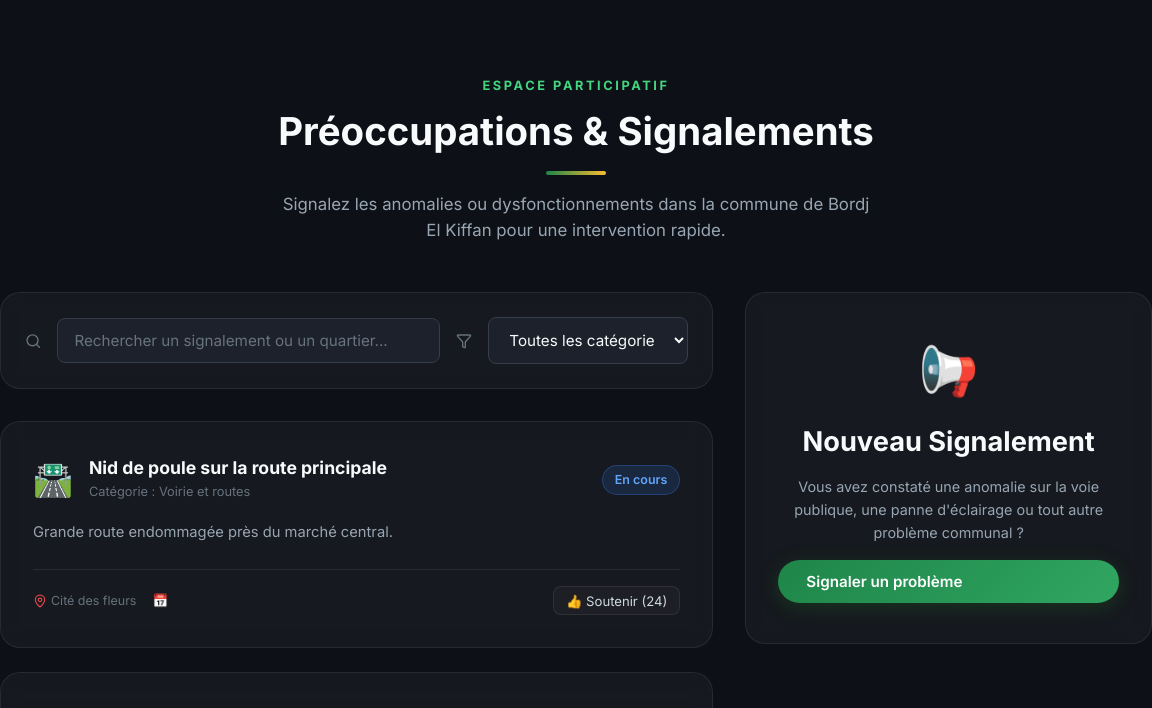
Test: Signalements › filters signalements by category
This screenshot has width=1152, height=708.
Select "Transport" in the dropdown showing "Toutes les catégories": [588, 341] box [488,317,688,364]
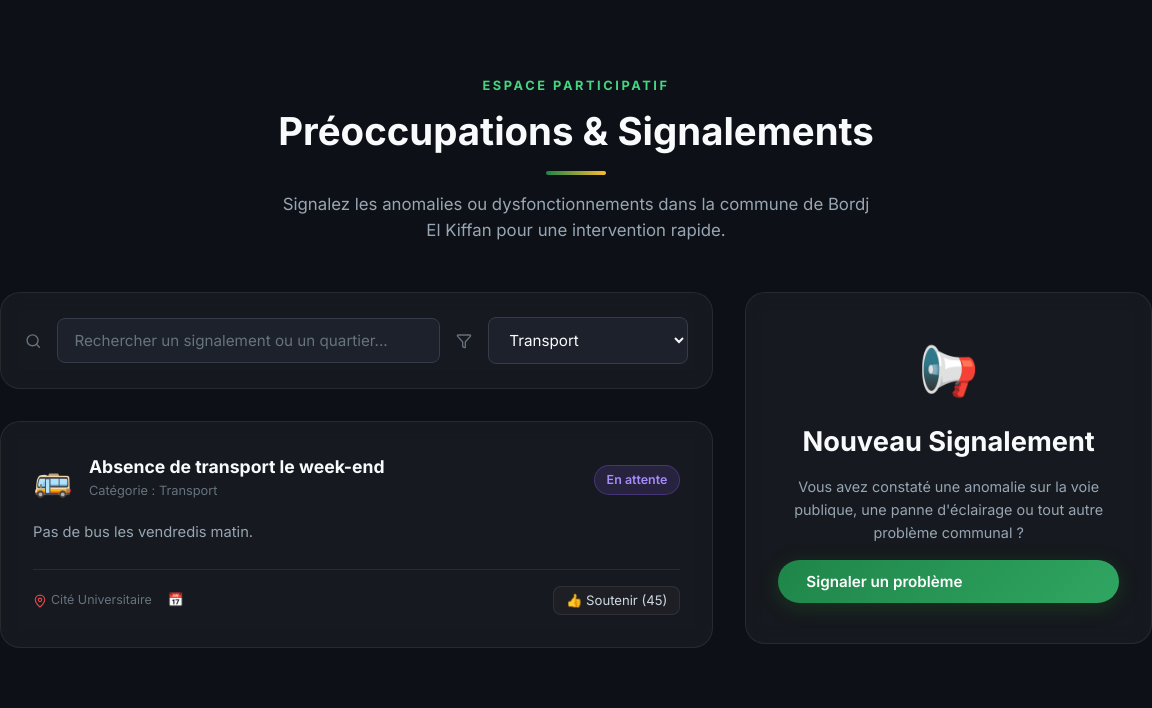
Expected: the heading "Absence de transport le week-end" is shown, [89,456,385,478]
Now the heading "Nid de poule sur la route principale" is gone
